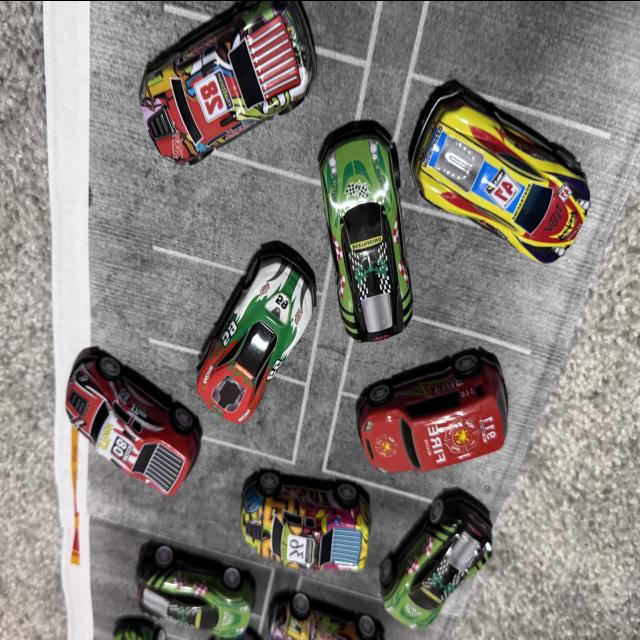car: (357, 342, 577, 518), (434, 78, 582, 308), (182, 217, 328, 435), (118, 0, 358, 127), (312, 120, 422, 385), (70, 348, 208, 516), (230, 449, 376, 597), (400, 458, 491, 640), (125, 541, 247, 640), (247, 565, 379, 640)
